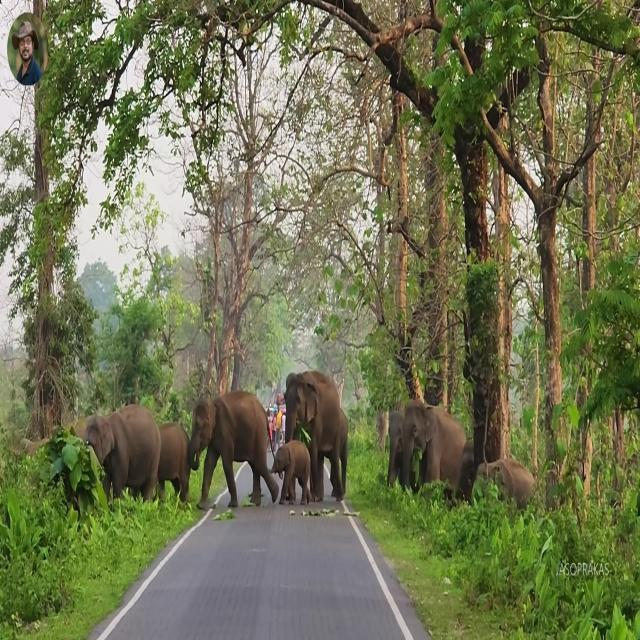Elephant: (188, 389, 279, 510), (283, 369, 347, 503), (84, 403, 162, 507), (394, 398, 467, 502), (474, 458, 535, 513), (268, 439, 312, 506), (157, 421, 191, 504)
person: (12, 21, 43, 85)
